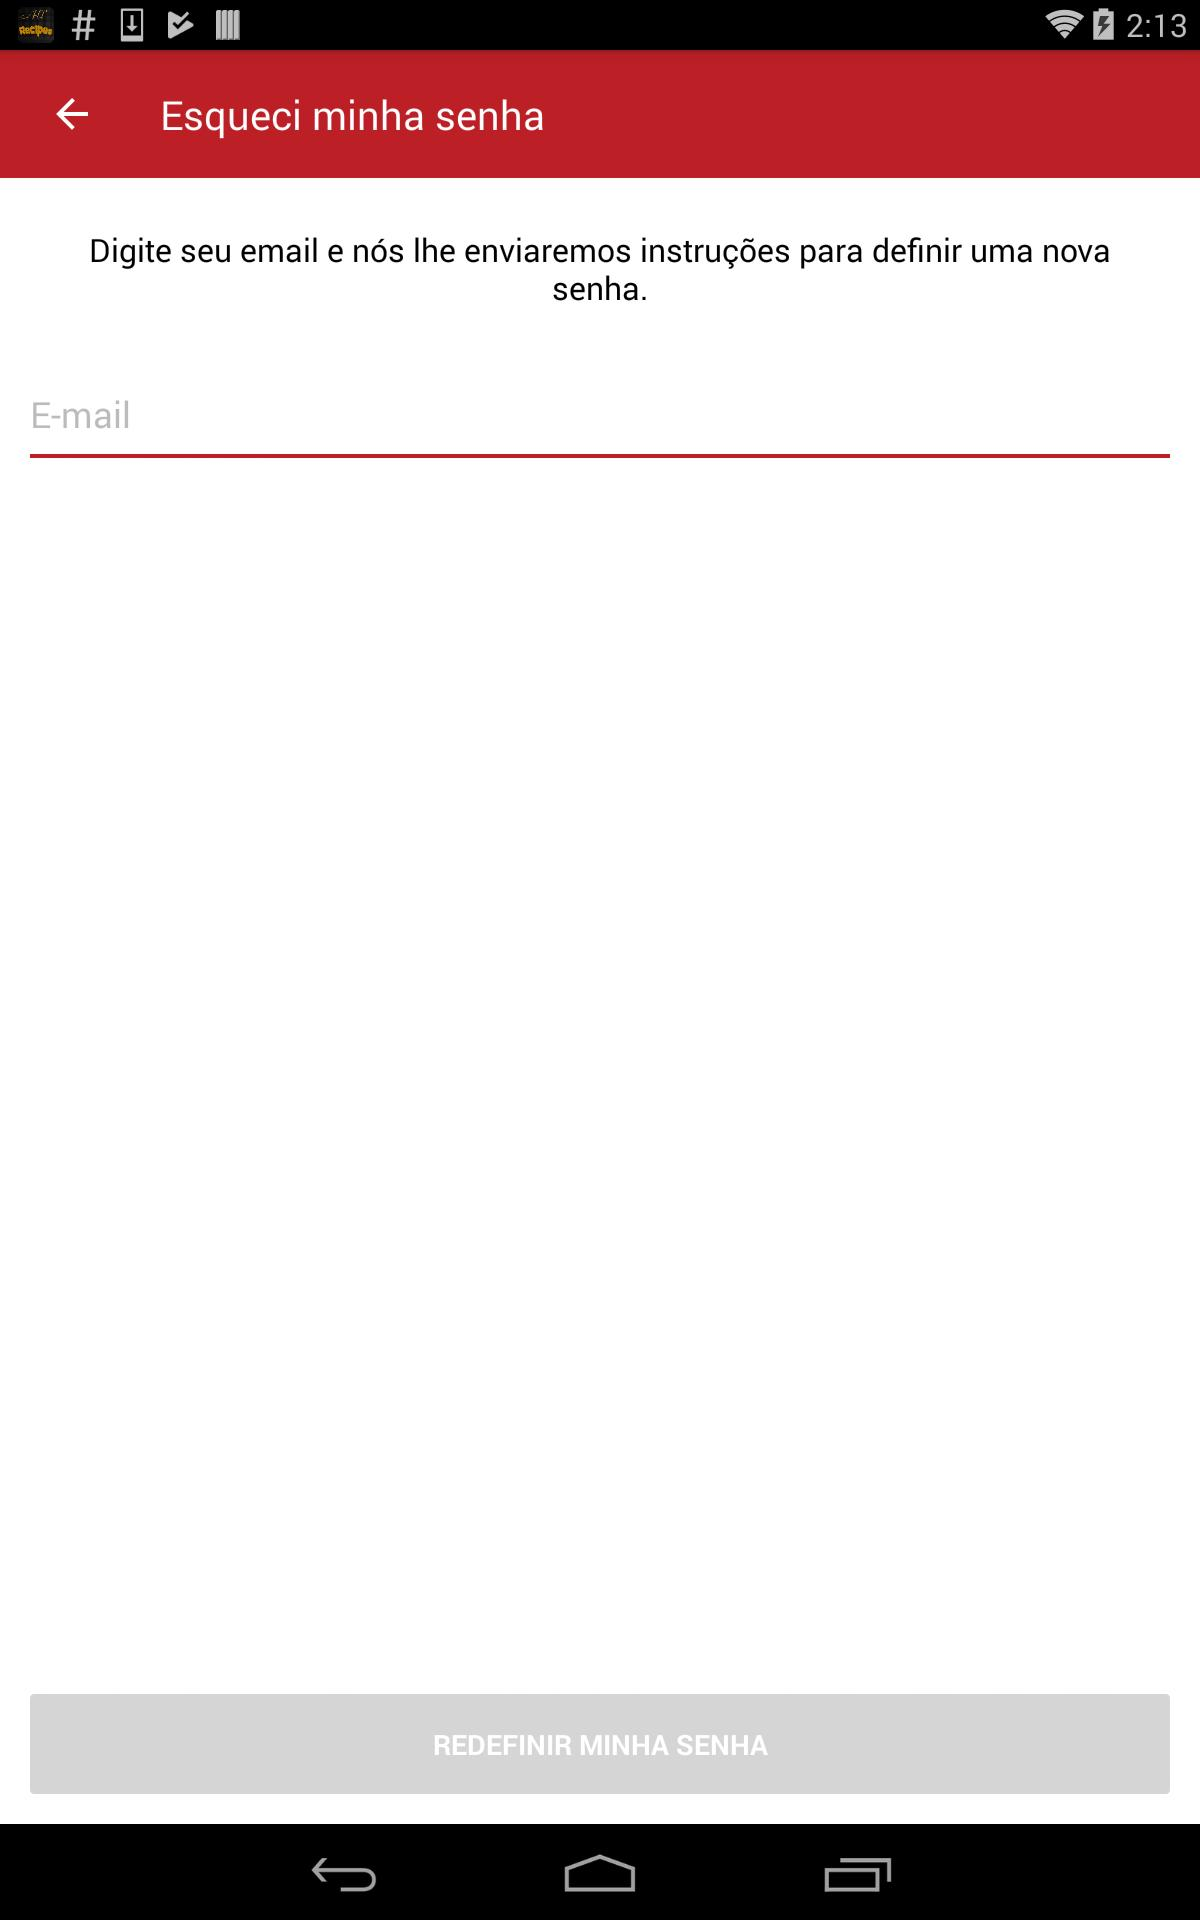android.view.View: (0, 50, 1200, 178)
android.widget.Button: (30, 1695, 1170, 1794)
android.widget.EditText: (30, 348, 1170, 470)
android.widget.FrameLayout: (0, 0, 1200, 1825), (0, 50, 1200, 1825)
android.widget.ImageButton: (17, 50, 129, 178)
android.widget.LinearLayout: (0, 178, 1200, 489)
android.widget.RelativeLayout: (0, 50, 1200, 1825)
android.widget.ScrollView: (0, 178, 1200, 1664)
android.widget.TextView: (30, 207, 1170, 329), (160, 87, 545, 141)
